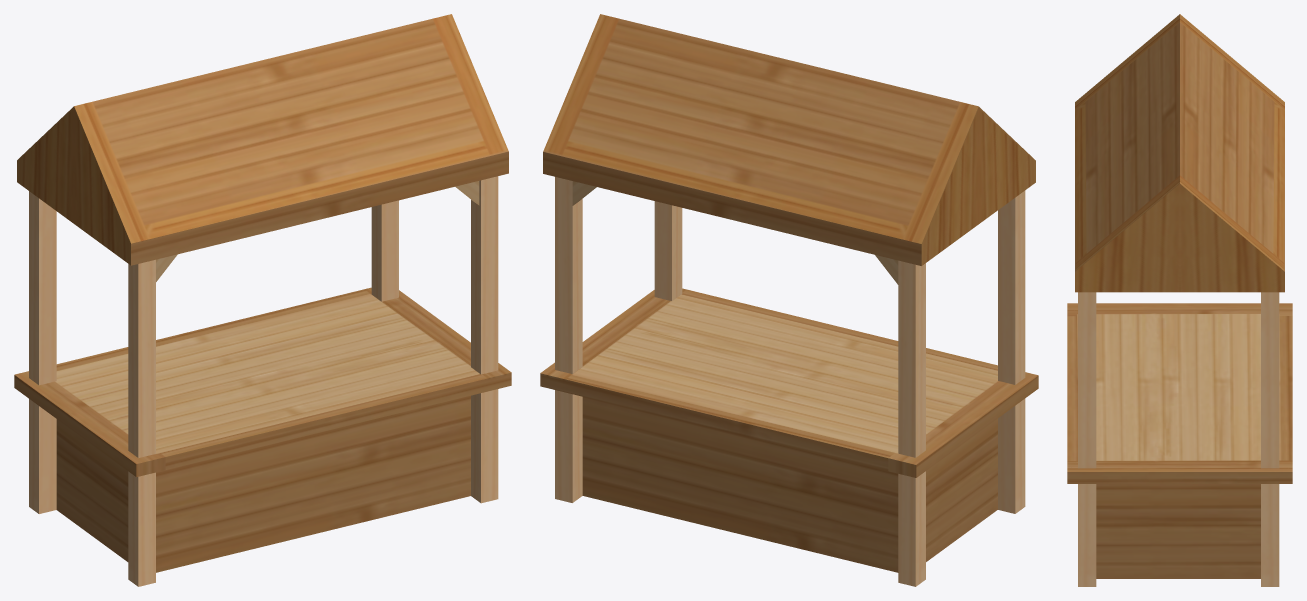
The model's file is ShopStall_003.fbx.
3 views of the same model, side by side, from view 1: azimuth 30°, elevation 25°; view 2: azimuth 150°, elevation 25°; view 3: azimuth 270°, elevation 25° (orthographic). The views are drawn at different scales.
Parts seen in each view (by area): view 1: ShopStall_001; view 2: ShopStall_001; view 3: ShopStall_001.
Part boxes in pixels (box(x1,y1,x2,y2)): ShopStall_001: box(14, 14, 511, 586); ShopStall_001: box(540, 14, 1038, 586); ShopStall_001: box(1067, 14, 1292, 586).
Bounding box in the file's own units: 11.95 × 13.37 × 6.7.
